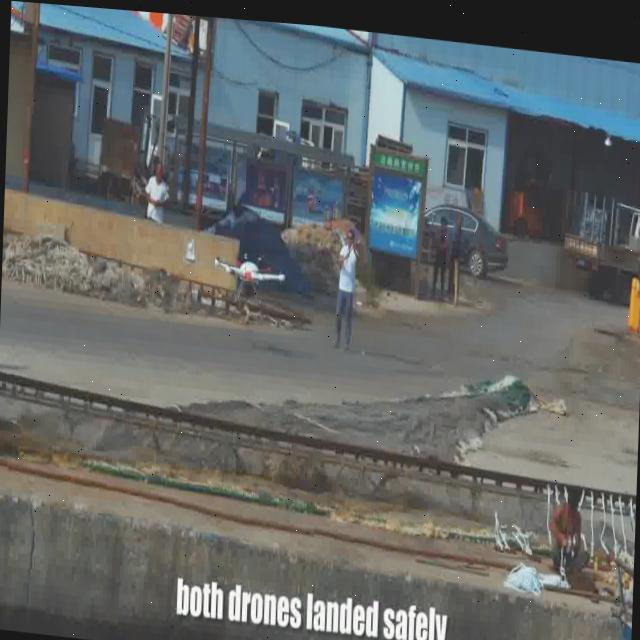drone: (210, 242, 286, 292)
